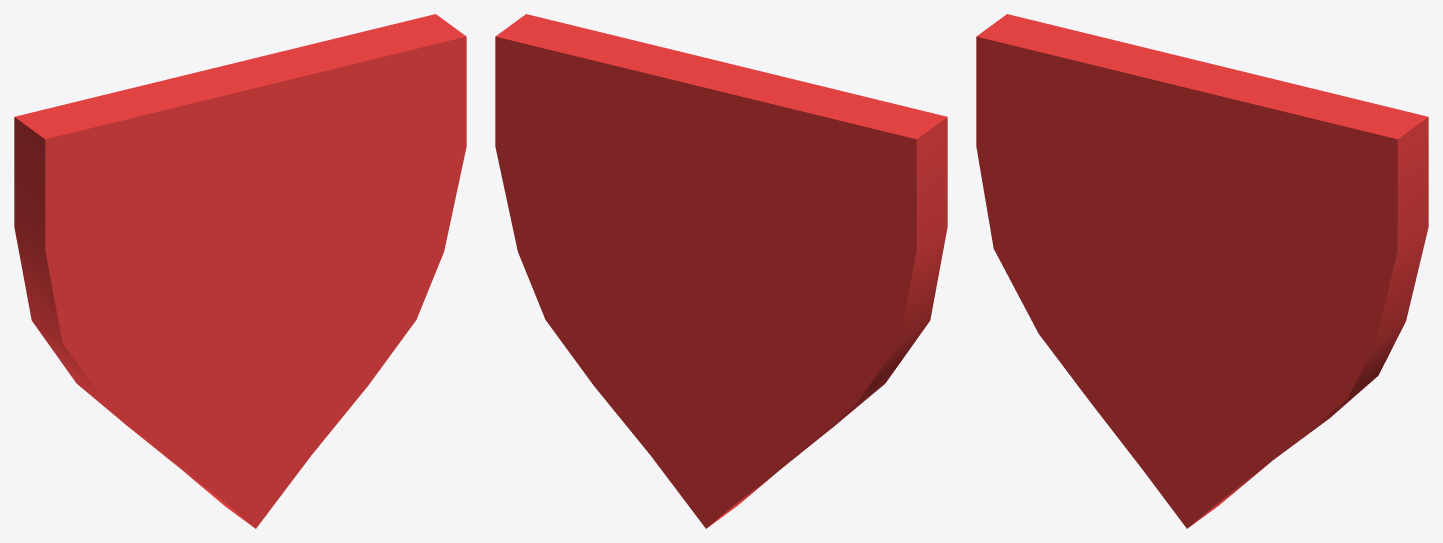
The model's file is arrow.fbx.
3 renders of one model, left to right at view 1: azimuth 30°, elevation 25°; view 2: azimuth 150°, elevation 25°; view 3: azimuth 330°, elevation 25°, orthographic.
Visible parts, largest first — view 1: pCube1; view 2: pCube1; view 3: pCube1.
Boxes of the visible parts, x1,y1,x2,y2 form: pCube1: (14, 14, 466, 528); pCube1: (495, 14, 947, 528); pCube1: (976, 14, 1428, 528).
Bounding box in the file's own units: 7.9 × 7.9 × 1.
Materials: 1 (1 with a texture image).
